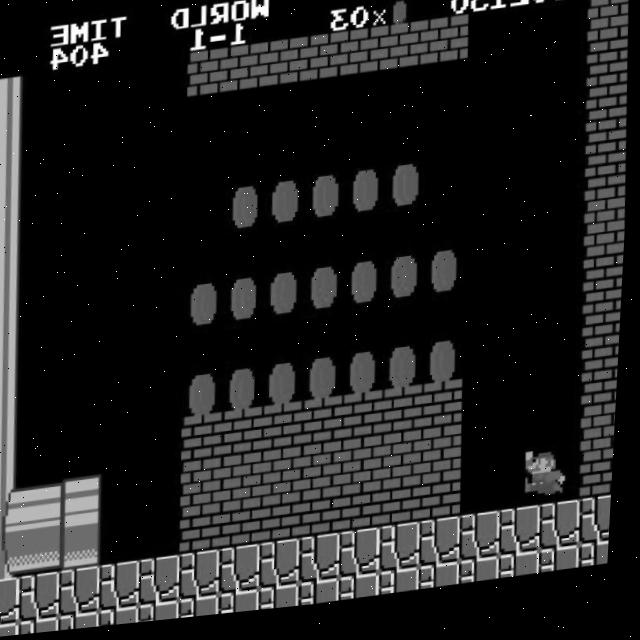1- brick_block: (423, 480, 468, 531), (386, 29, 431, 80), (384, 439, 429, 490), (344, 444, 389, 495), (304, 448, 349, 499), (266, 43, 311, 94), (223, 458, 268, 509), (223, 503, 268, 554), (186, 52, 231, 103), (183, 508, 228, 559), (426, 25, 471, 75), (424, 389, 469, 439), (424, 435, 469, 485), (383, 485, 428, 535), (346, 34, 391, 84), (343, 490, 388, 540), (306, 39, 351, 89), (304, 403, 349, 453), (303, 494, 348, 544), (263, 499, 308, 549), (226, 48, 271, 98), (184, 417, 229, 467), (183, 463, 228, 513), (587, 5, 631, 56), (264, 453, 308, 504), (264, 408, 309, 457), (224, 413, 269, 462), (586, 51, 630, 101), (586, 97, 630, 147), (586, 142, 630, 192), (585, 188, 629, 238), (384, 394, 428, 444), (344, 399, 388, 448), (585, 234, 628, 283), (585, 279, 627, 329), (585, 325, 625, 375), (584, 371, 623, 420), (584, 417, 621, 466), (584, 462, 619, 511)
11- little_mario: (529, 456, 576, 510)
14- pipe: (23, 481, 68, 532), (23, 527, 68, 577), (0, 75, 31, 125), (0, 348, 30, 399), (0, 121, 31, 170), (0, 212, 30, 262), (0, 394, 29, 445), (0, 167, 30, 216), (0, 258, 29, 308), (0, 440, 29, 490), (0, 486, 29, 536), (0, 304, 29, 353), (0, 531, 28, 581)
15- pipe_head: (63, 477, 108, 527), (63, 522, 108, 572)
17- undestructible_block: (543, 512, 588, 563), (503, 516, 548, 567), (463, 521, 508, 572), (263, 544, 308, 595), (223, 549, 268, 600), (183, 554, 228, 605), (143, 558, 188, 609), (423, 526, 468, 576), (383, 531, 428, 581), (343, 535, 388, 585), (303, 540, 348, 590), (22, 573, 67, 623), (103, 563, 147, 614), (63, 568, 107, 618), (583, 508, 617, 557), (0, 577, 28, 627), (544, 557, 587, 585), (424, 571, 467, 599), (384, 576, 427, 604), (304, 585, 347, 613), (344, 580, 386, 608), (504, 562, 547, 589), (464, 567, 507, 594), (264, 590, 307, 616), (224, 594, 267, 620), (184, 599, 227, 623), (144, 604, 187, 626), (104, 608, 147, 629), (64, 613, 107, 633), (24, 617, 67, 636), (584, 554, 615, 579), (0, 623, 26, 639)
2- coin: (425, 252, 470, 303), (424, 343, 469, 394), (384, 348, 429, 399), (304, 357, 349, 408), (264, 362, 309, 413), (184, 280, 229, 331), (385, 166, 430, 216), (385, 257, 430, 307), (345, 262, 390, 312), (344, 353, 389, 403), (264, 271, 309, 321), (224, 276, 269, 326), (224, 367, 269, 417), (184, 372, 229, 422), (305, 266, 349, 317), (345, 171, 390, 220), (305, 176, 350, 225), (265, 181, 310, 230), (225, 185, 270, 234)
